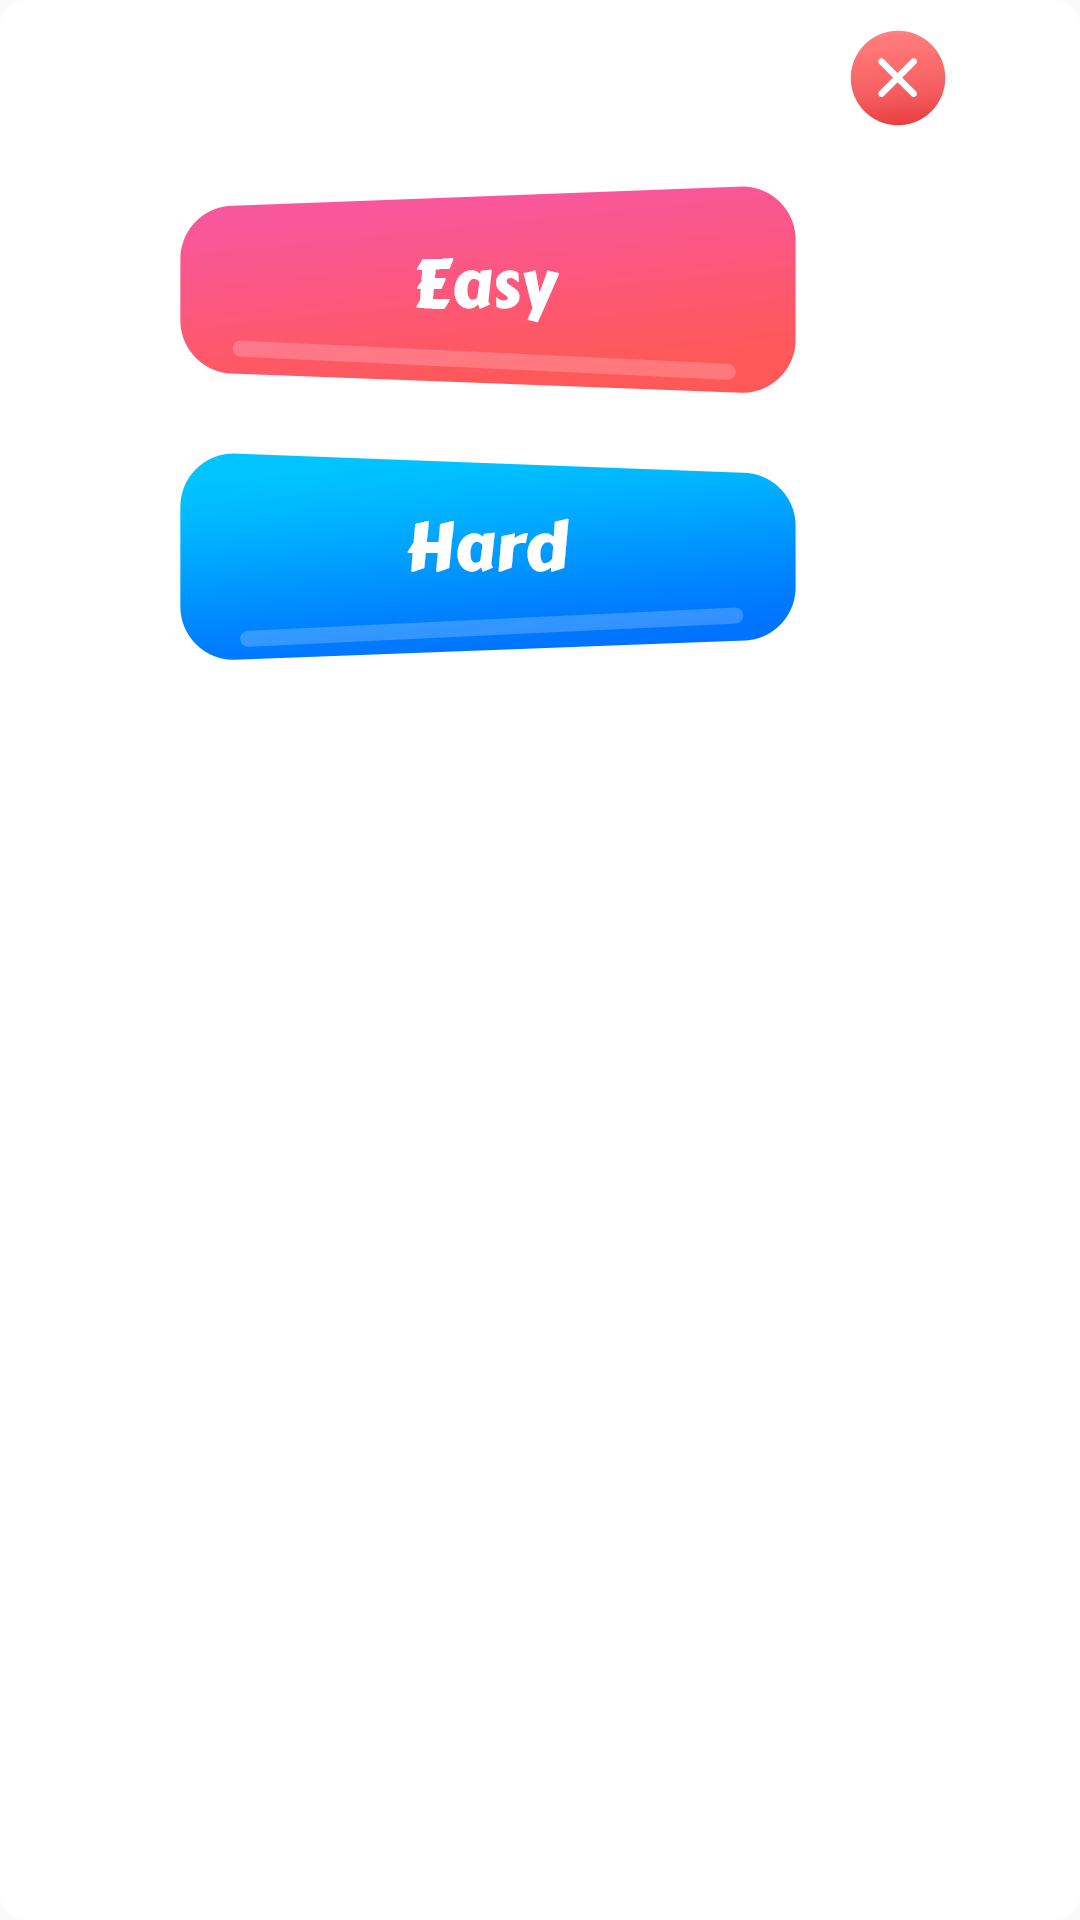

Named icons in this screenshot (1080px x 1920px) and their centers, (x,y):
cancel: (898,78)
